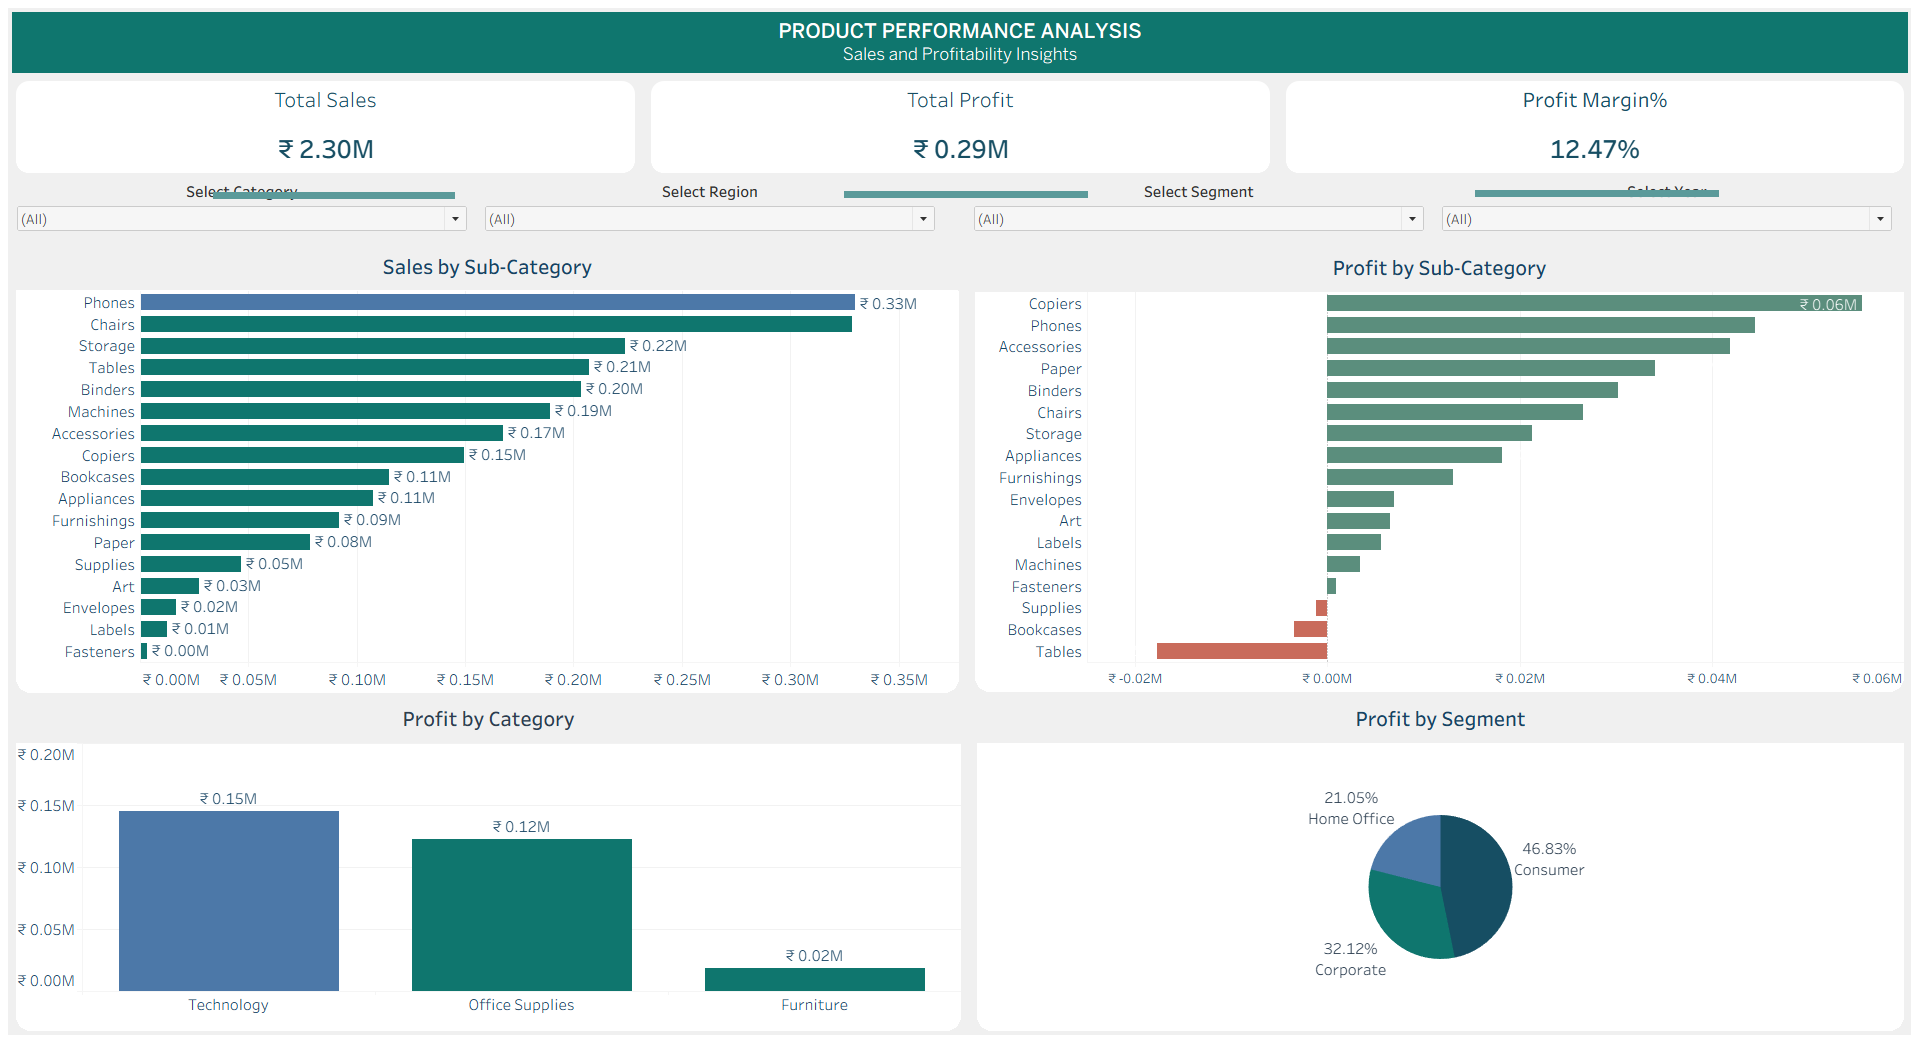

Layout of this report page (visuals, bound fields, positions):
{"tool":"tableau","page":{"name":"Product Performance Analysis","canvas":[1000,1000],"units":"permille","ordinal":0},"visuals":[{"type":"text","box":[8,9,983.9,77.8]},{"type":"worksheet","title":"KPI - Total Sales","mark":"Text","box":[8,86.8,328.3,112.7]},{"type":"worksheet","title":"KPI - Total Profit","mark":"Automatic","box":[336.4,86.8,328.3,112.7]},{"type":"worksheet","title":"KPI - Profit Margin","mark":"Automatic","box":[664.7,86.8,327.3,112.7]},{"type":"blank","box":[768,181.7,127.1,6.7]},{"type":"blank","box":[439.4,182.8,127.1,6.7]},{"type":"blank","box":[110.9,183.8,126.2,6.8]},{"type":"filter","title":"Sales by Sub-Category","param":"[federated.08ytlyj17tai4d175wwvw0aqczld].[none:Category:nk]","box":[8,199.6,247.3,76.7]},{"type":"filter","title":"Sales by Sub-Category","param":"[federated.08ytlyj17tai4d175wwvw0aqczld].[none:Region:nk]","box":[255.3,199.6,247.3,76.7]},{"type":"filter","title":"Sales by Sub-Category","param":"[federated.08ytlyj17tai4d175wwvw0aqczld].[none:Segment:nk]","box":[502.6,199.6,244.7,76.7]},{"type":"filter","title":"Sales by Sub-Category","param":"[federated.08ytlyj17tai4d175wwvw0aqczld].[yr:Order Date:ok]","box":[747.3,199.6,244.7,76.7]},{"type":"worksheet","title":"Sales by Sub-Category","mark":"Automatic","rows":["Sub-Category"],"cols":["Sales"],"box":[8,276.2,499,390.3]},{"type":"worksheet","title":"Profit by Sub-Category","mark":"Automatic","rows":["Sub-Category"],"cols":["Profit"],"box":[507,276.2,484.9,390.3]},{"type":"worksheet","title":"Profit by Category","mark":"Automatic","rows":["Profit"],"cols":["Category"],"box":[8,666.5,496.5,324.4]},{"type":"worksheet","title":"Profit by Segment","mark":"Pie","box":[504.5,666.5,487.5,324.4]}]}

Visuals, with their boxes on the dashboard's canvas, which has no fixed pixel size, in thousandths of its width and height (x1, y1, x2, y2). These are canvas units, not pixel positions in the 1917x1038 screenshot, which may show the page scaled, cropped or inside an application window:
text: {"left": 8, "top": 9, "right": 992, "bottom": 87}
"KPI - Total Sales" worksheet (Text marks): {"left": 8, "top": 87, "right": 336, "bottom": 200}
"KPI - Total Profit" worksheet: {"left": 336, "top": 87, "right": 665, "bottom": 200}
"KPI - Profit Margin" worksheet: {"left": 665, "top": 87, "right": 992, "bottom": 200}
blank: {"left": 768, "top": 182, "right": 895, "bottom": 188}
blank: {"left": 439, "top": 183, "right": 566, "bottom": 190}
blank: {"left": 111, "top": 184, "right": 237, "bottom": 191}
"Sales by Sub-Category" filter: {"left": 8, "top": 200, "right": 255, "bottom": 276}
"Sales by Sub-Category" filter: {"left": 255, "top": 200, "right": 503, "bottom": 276}
"Sales by Sub-Category" filter: {"left": 503, "top": 200, "right": 747, "bottom": 276}
"Sales by Sub-Category" filter: {"left": 747, "top": 200, "right": 992, "bottom": 276}
"Sales by Sub-Category" worksheet: {"left": 8, "top": 276, "right": 507, "bottom": 666}
"Profit by Sub-Category" worksheet: {"left": 507, "top": 276, "right": 992, "bottom": 666}
"Profit by Category" worksheet: {"left": 8, "top": 666, "right": 504, "bottom": 991}
"Profit by Segment" worksheet (Pie marks): {"left": 504, "top": 666, "right": 992, "bottom": 991}
